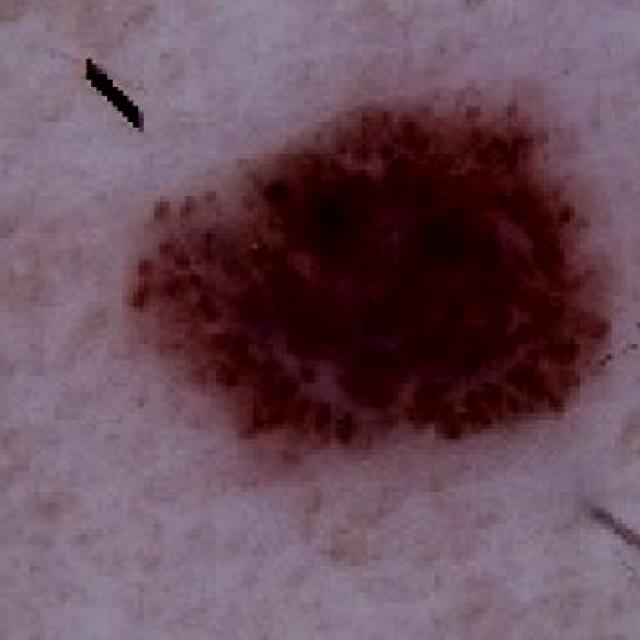MEL: (118, 85, 628, 443)
